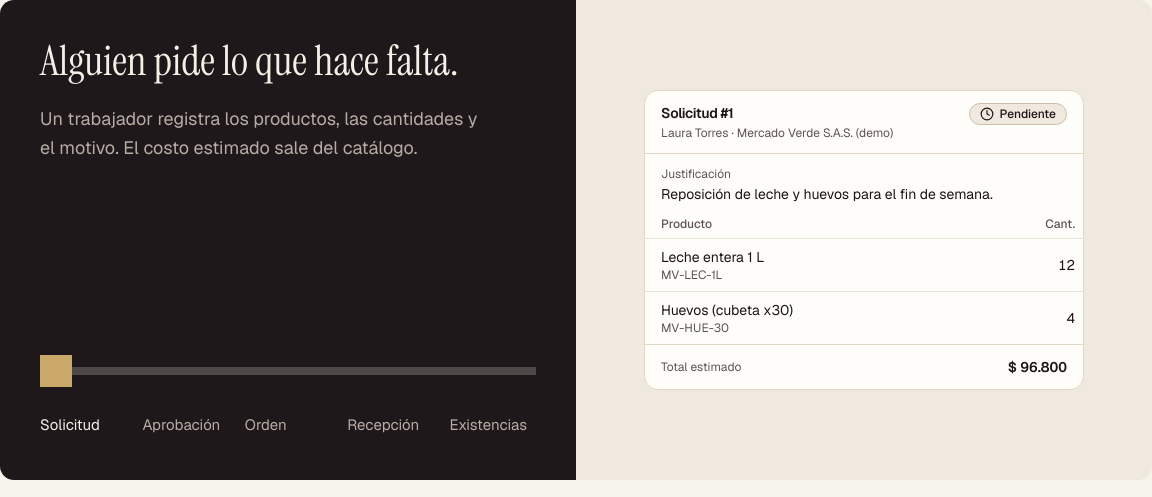
Recorrido interactivo de una compra › el control deslizante y los nombres de etapa cambian la frase
This screenshot has width=1152, height=497.
Expected: the text "Alguien pide lo que hace falta." is shown, [40,34,459,88]
Set the slider named "Etapa de la compra" to "3". click: [408, 370]
box: [40,350,536,390]
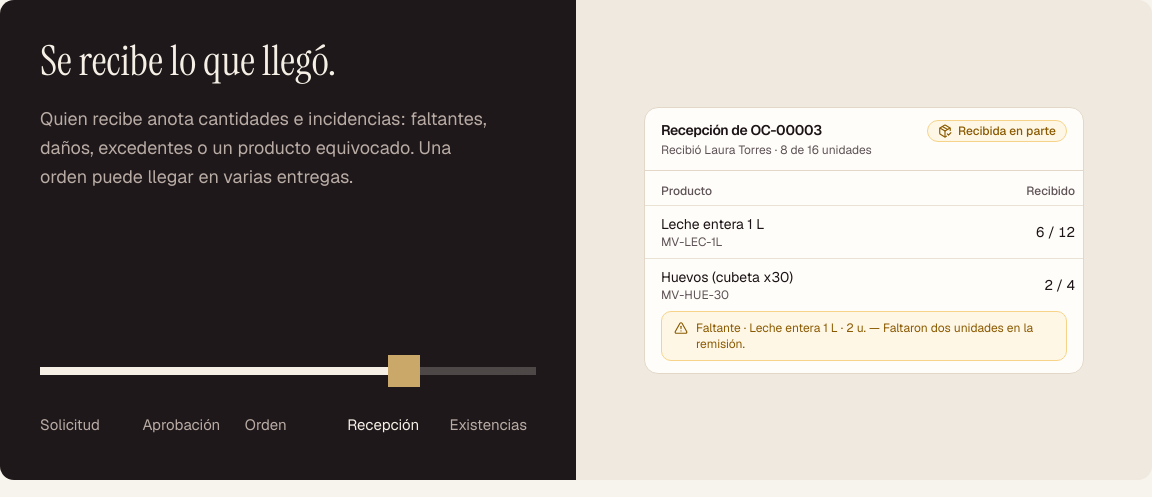
Result: the text "Se recibe lo que llegó." is shown at [40,34,336,88]
Click the button "Existencias". click: [488, 425]
box: [450,410,527,440]
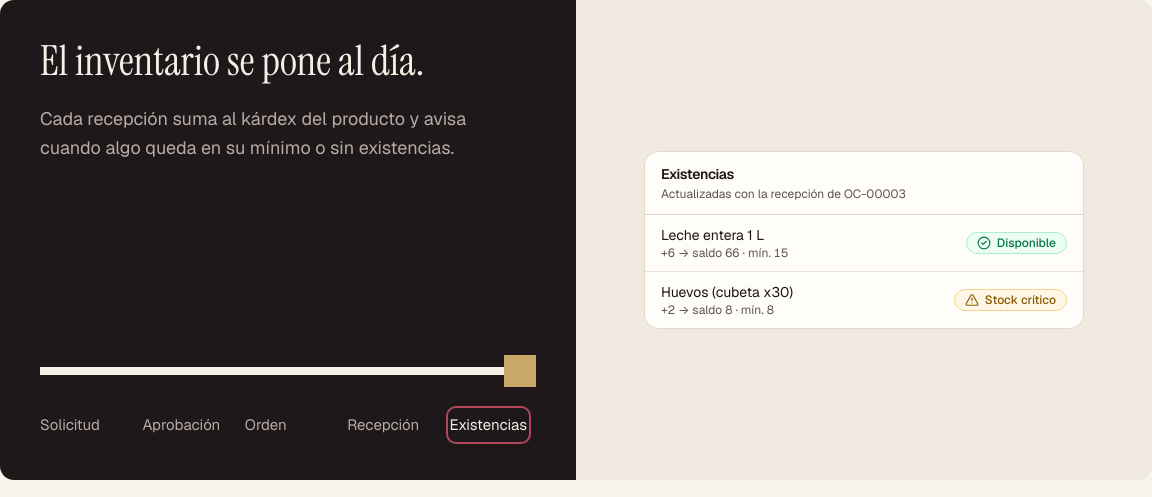
Result: the text "El inventario se pone al día." is shown at [40,34,424,88]
